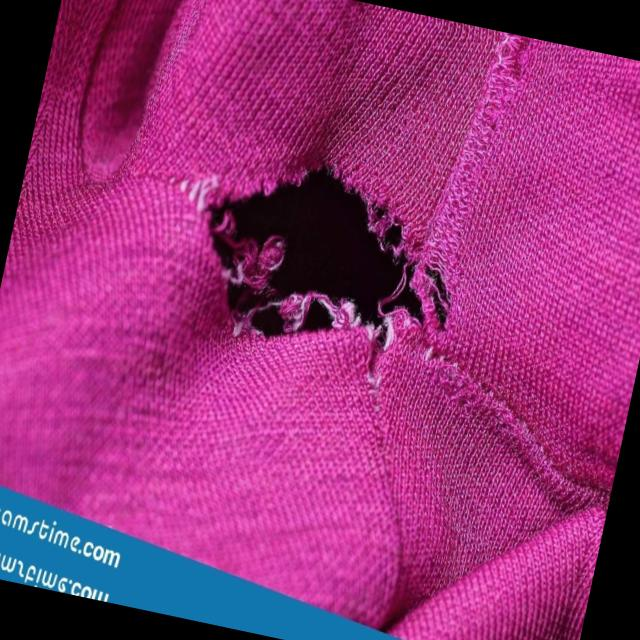cut: (186, 142, 469, 370)
